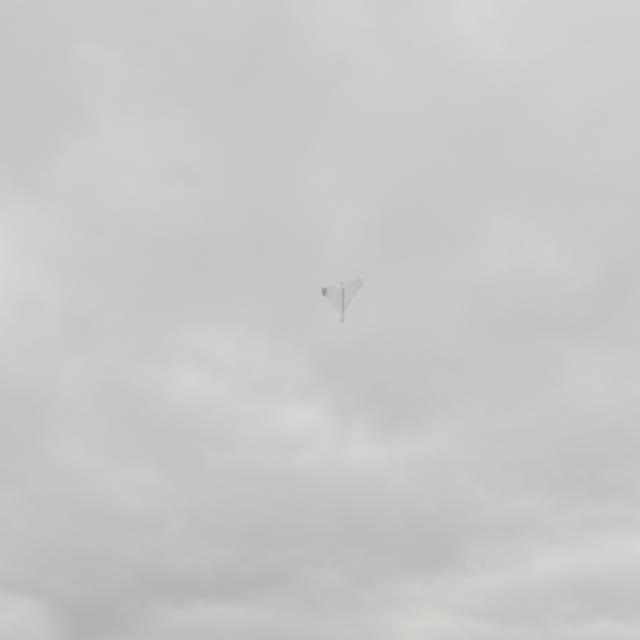Airaplan: (321, 277, 363, 323)
